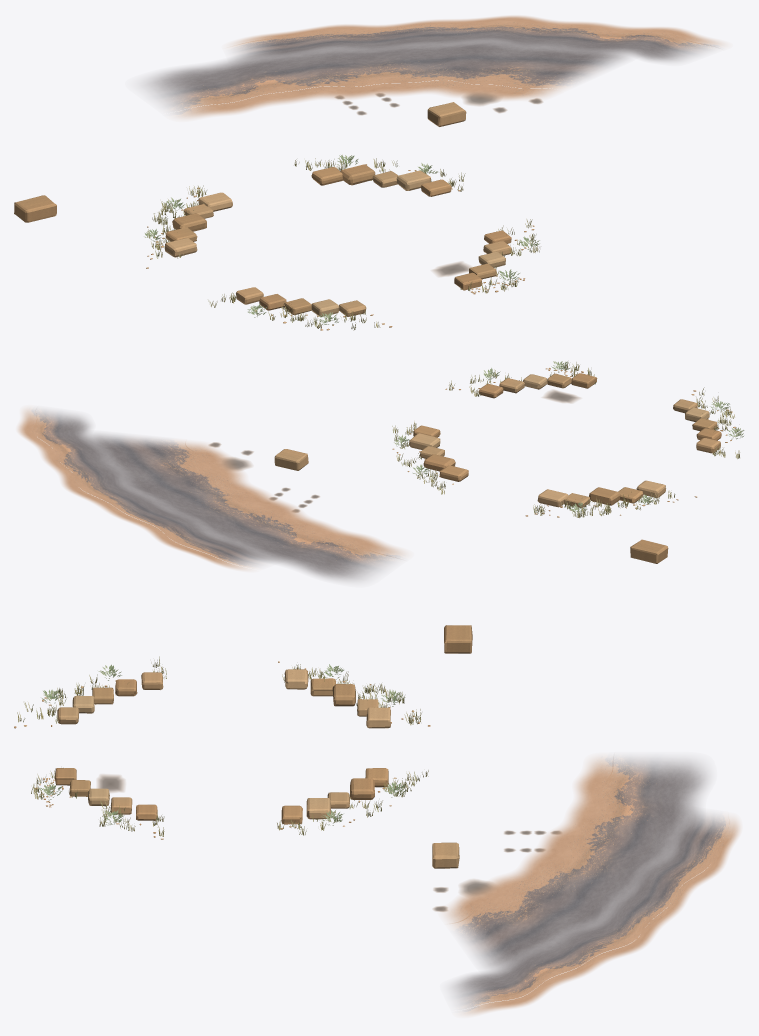
File: smoko_surroundings.glb
3 renders of one model, top to bottom at view 1: azimuth 30°, elevation 25°; view 2: azimuth 150°, elevation 25°; view 3: azimuth 270°, elevation 25°, orthographic. The views are drawn at different scales.
Visible parts, largest first — view 1: East picnic weathered bitumen, Eastern entrance dust lip, Arena entrance surroundings.003, East gum and picnic ground wear; view 2: East picnic weathered bitumen, Eastern entrance dust lip, Arena entrance surroundings.003, East gum and picnic ground wear; view 3: East picnic weathered bitumen, Eastern entrance dust lip, Arena entrance surroundings.003, East gum and picnic ground wear.
Boxes of the visible parts, x1,y1,x2,y2 form: East picnic weathered bitumen: [139, 36, 635, 118]; Eastern entrance dust lip: [230, 15, 724, 62]; Arena entrance surroundings.003: [14, 102, 539, 330]; East gum and picnic ground wear: [335, 93, 542, 276]; East picnic weathered bitumen: [75, 433, 405, 582]; Eastern entrance dust lip: [17, 408, 271, 569]; Arena entrance surroundings.003: [274, 361, 744, 563]; East gum and picnic ground wear: [209, 390, 579, 512]; East picnic weathered bitumen: [444, 755, 709, 974]; Eastern entrance dust lip: [449, 811, 740, 1014]; Arena entrance surroundings.003: [14, 625, 472, 868]; East gum and picnic ground wear: [97, 774, 560, 911].
Size of the model in its own units: 36.43 by 0.6424 by 29.34.
11 materials, 5 textured.
